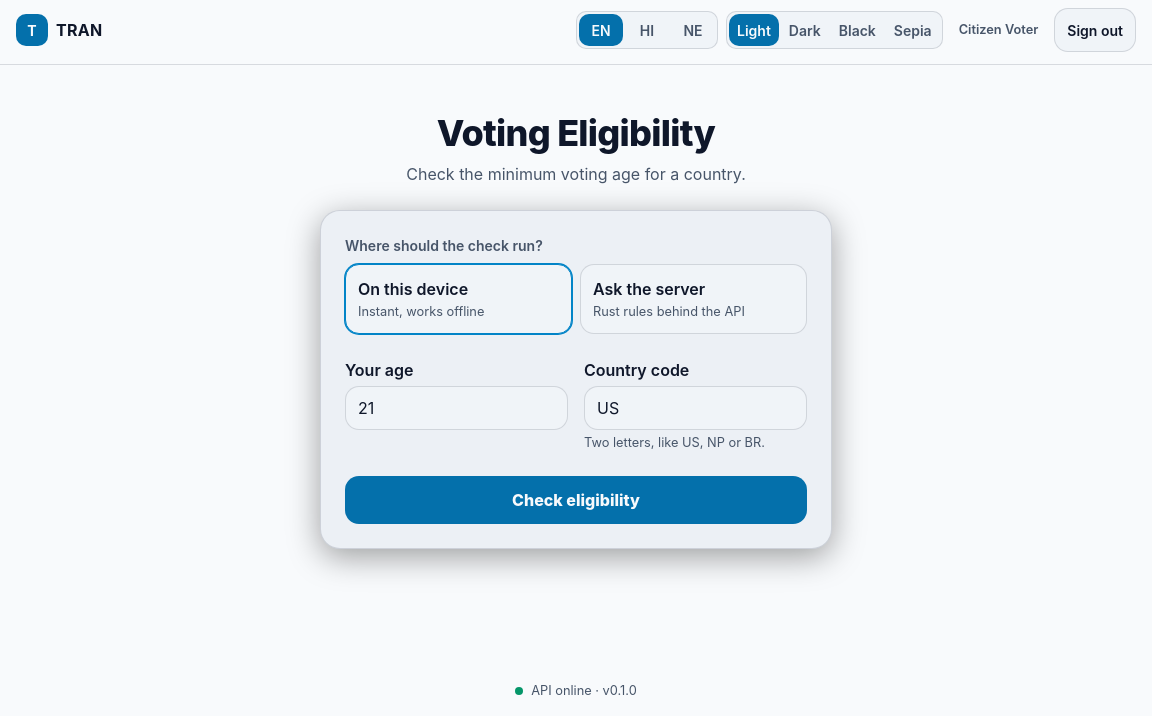
App: server down › switches to the offline banner (not an error alert) and the device verdict when the server dies mid-session
The image size is (1152, 716).
Expected: the text "API online · v0.1.0" is shown, [515,682,637,700]
Click the radio button labelled "Ask the server Rust rules behind the API" at (694, 299), box [580,264,807,334]
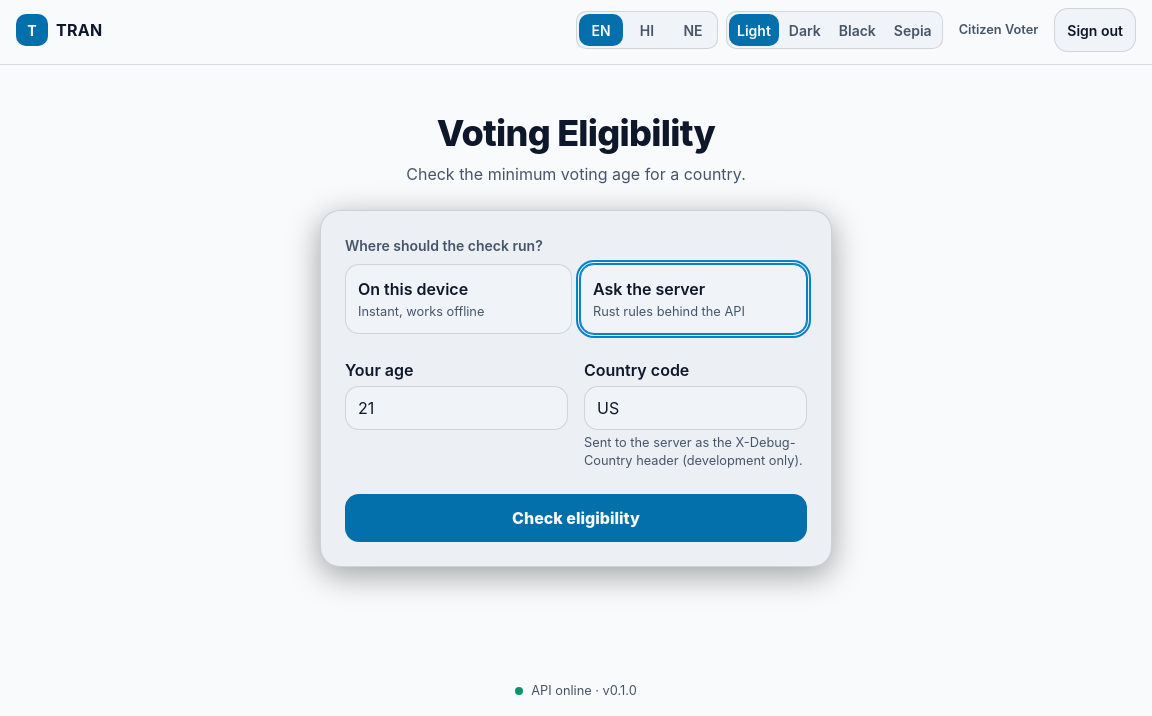
Click the button "Check eligibility" at (576, 518), box [345,494,807,542]
(page scrolled)
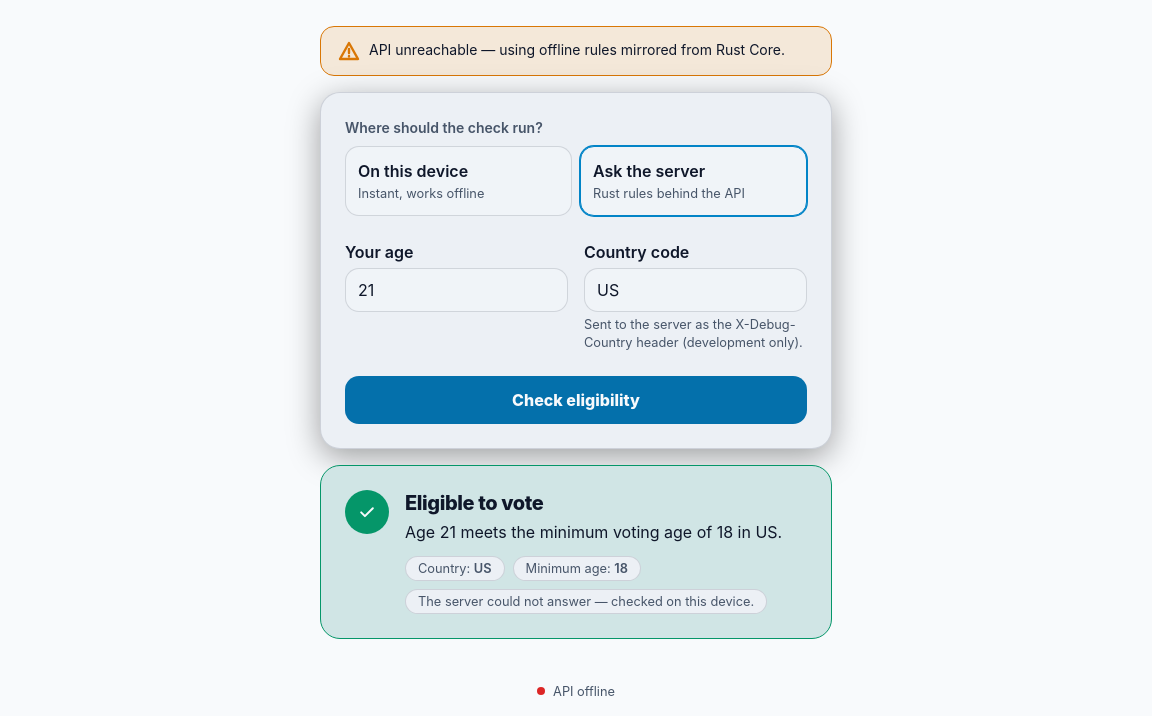
Expected: the text "API unreachable" is shown, [369,41,785,58]
Expected: the text "The server could not answer — checked on this device." is shown, [418,594,754,609]
Expected: the text "API offline" is shown, [537,682,615,700]
